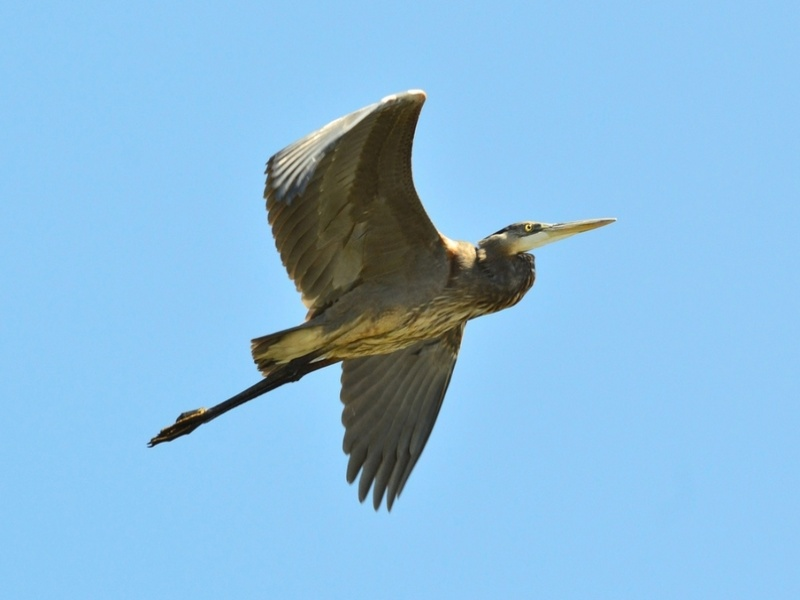heron: (140, 82, 622, 520)
